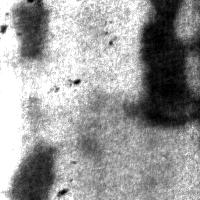patches: (60, 91, 186, 200), (136, 1, 198, 126), (6, 142, 56, 200), (0, 4, 37, 68), (11, 2, 49, 58)
